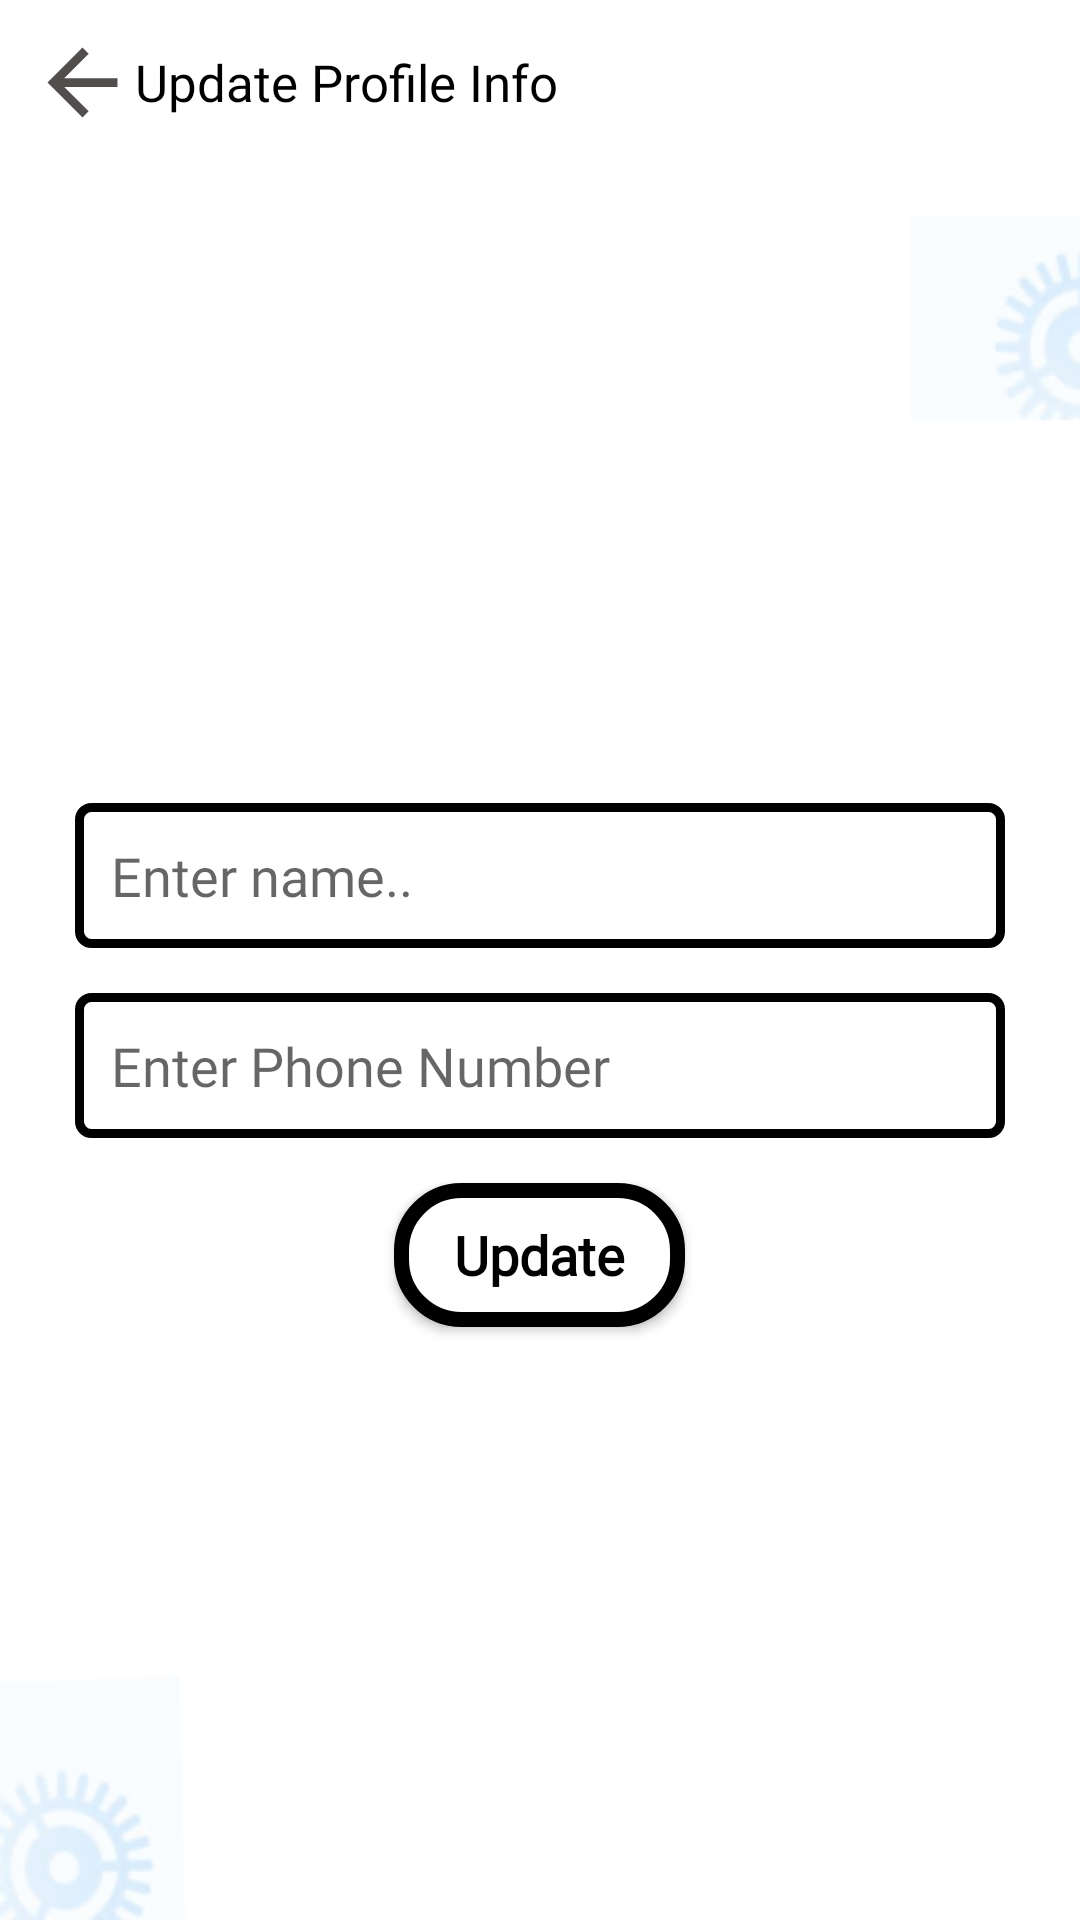

Icon click points for this 1080 x 1920 phone screenshot, format (x,y):
arrow back: (82,82)
